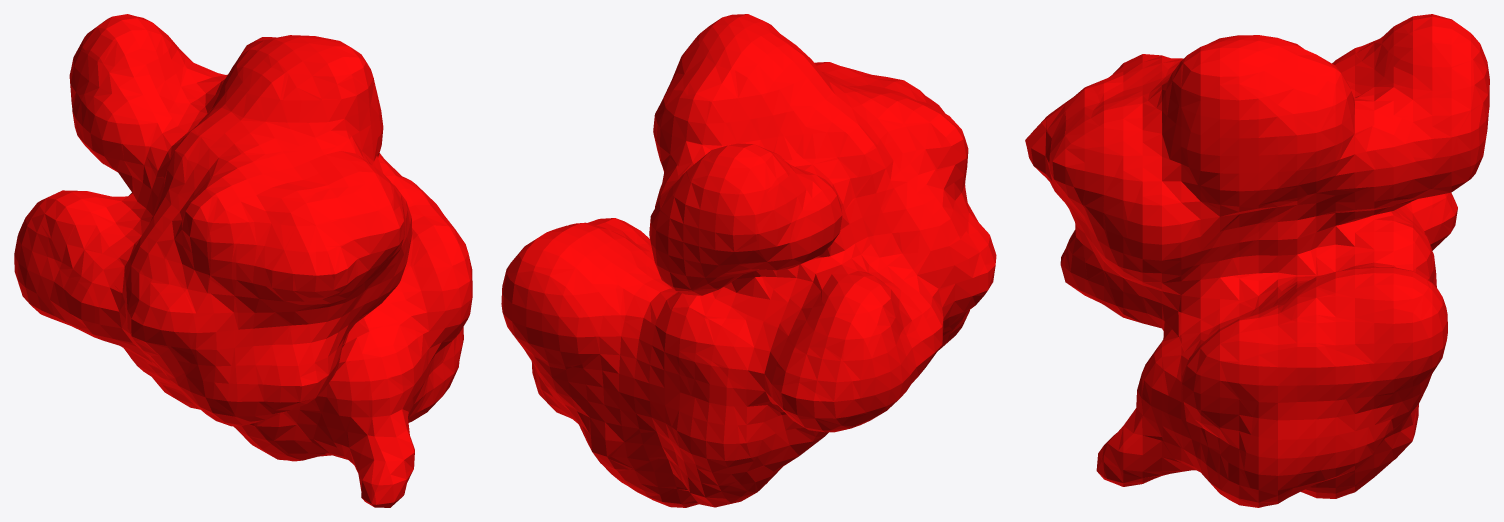
Rendered from ackA_coarse.dae.
3 views of the same model, side by side, from view 1: azimuth 30°, elevation 25°; view 2: azimuth 150°, elevation 25°; view 3: azimuth 270°, elevation 25° (orthographic). The views are drawn at different scales.
Parts seen in each view (by area): view 1: ackA; view 2: ackA; view 3: ackA.
Boxes of the visible parts, x1=… form: ackA: x1=14, y1=14, x2=472, y2=507; ackA: x1=501, y1=14, x2=996, y2=507; ackA: x1=1025, y1=14, x2=1489, y2=507.
Bounding box in the file's own units: 59.47 × 62.53 × 60.45.
